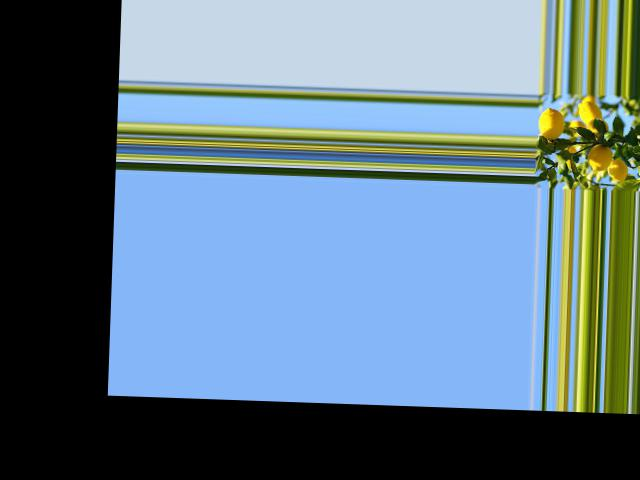lemon: (536, 104, 567, 143)
